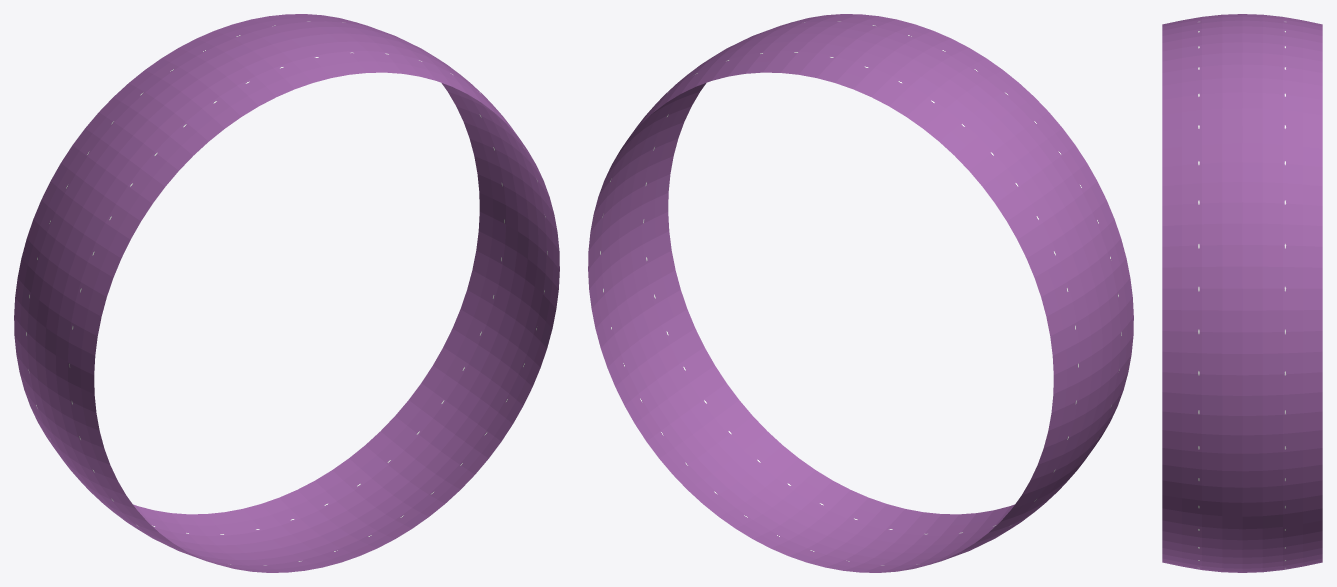
File: road_test04.fbx
3 renders of one model, left to right at view 1: azimuth 30°, elevation 25°; view 2: azimuth 150°, elevation 25°; view 3: azimuth 270°, elevation 25°, orthographic.
Parts seen in each view (by area): view 1: road_test04:headusOBJexport; view 2: road_test04:headusOBJexport; view 3: road_test04:headusOBJexport.
Boxes of the visible parts, bbox=[...] form: road_test04:headusOBJexport: bbox=[14, 14, 559, 572]; road_test04:headusOBJexport: bbox=[588, 14, 1133, 572]; road_test04:headusOBJexport: bbox=[1162, 14, 1322, 572].
Size of the model in its own units: 370 by 370 by 106.
